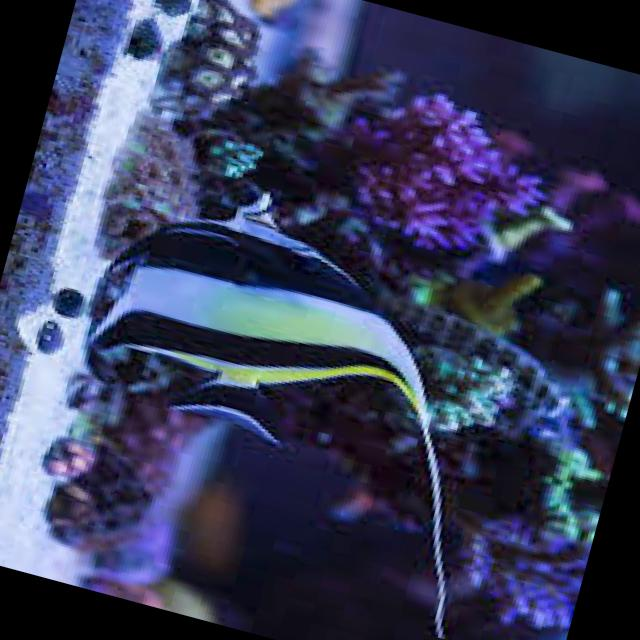MorishIdol: (31, 147, 552, 640)
